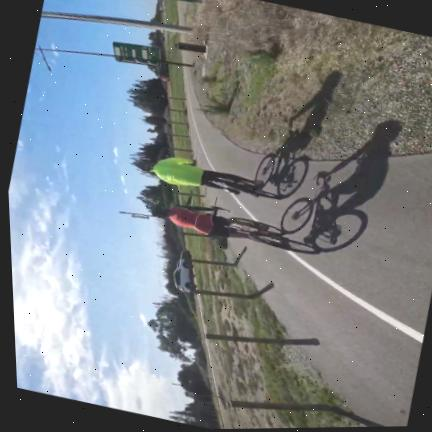Bike_Lane: (243, 154, 432, 427), (207, 162, 338, 227), (186, 74, 261, 178), (330, 162, 356, 187)
